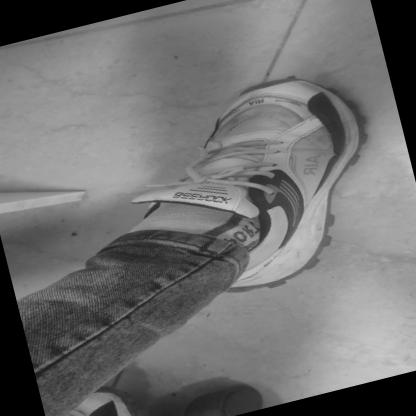ankle: (263, 227, 275, 235)
heel: (246, 282, 261, 291)
left_foot: (148, 60, 403, 309)
pinky: (312, 94, 330, 105)
toe: (240, 97, 255, 107)
